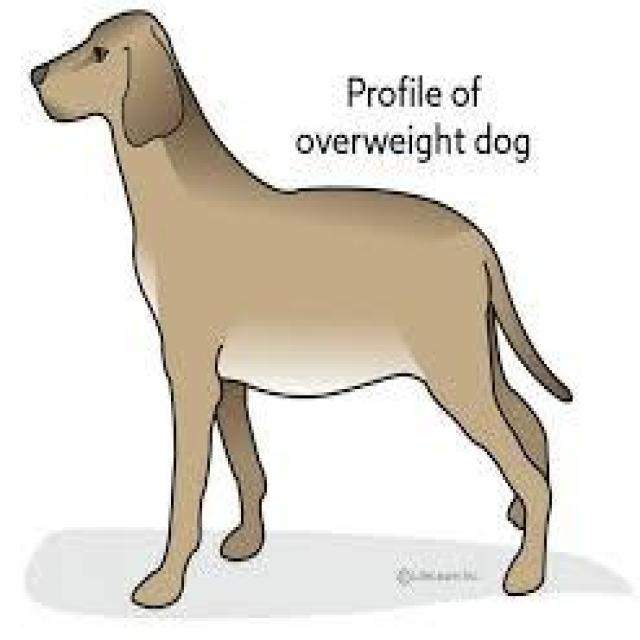Dog: (20, 5, 208, 169)
